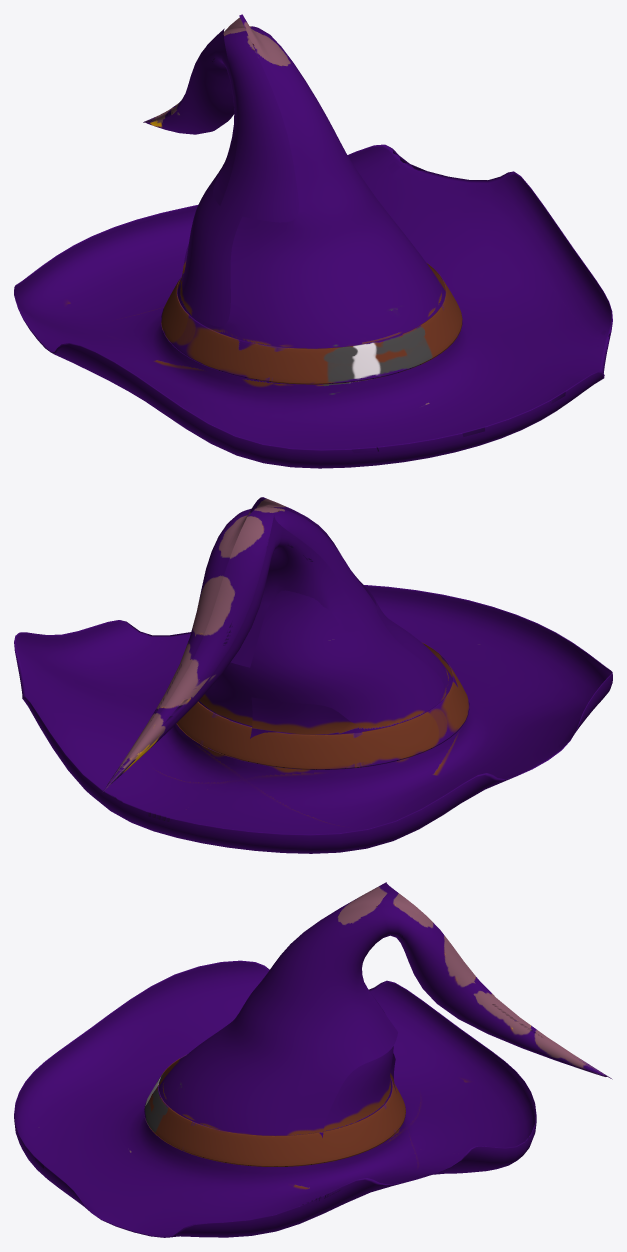
Rendered from Maguso_TornHat.fbx.
3 renders of one model, top to bottom at view 1: azimuth 30°, elevation 25°; view 2: azimuth 150°, elevation 25°; view 3: azimuth 270°, elevation 25°, orthographic. The views are drawn at different scales.
Visible parts, largest first — view 1: Circle; view 2: Circle; view 3: Circle.
Boxes of the visible parts, <box> form: Circle: <box>14,14,612,468</box>; Circle: <box>14,497,612,853</box>; Circle: <box>14,882,612,1237</box>.
Bounding box in the file's own units: 395 × 217 × 455.
